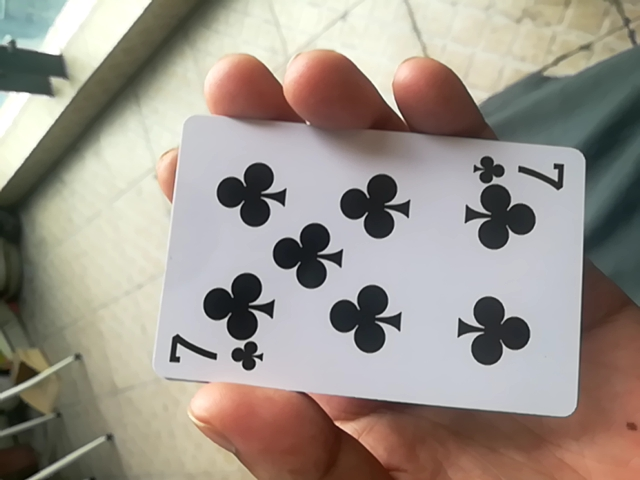mh 7: (144, 114, 586, 419)
